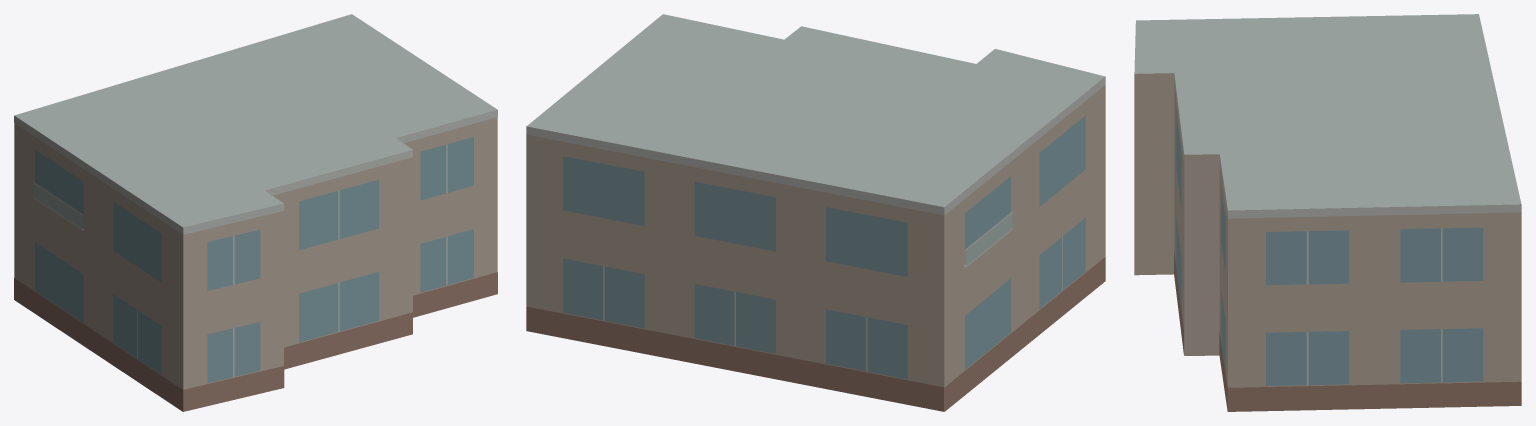
The model's file is survey-upis-32666109.glb.
3 views of the same model, side by side, from view 1: azimuth 30°, elevation 25°; view 2: azimuth 150°, elevation 25°; view 3: azimuth 270°, elevation 25° (orthographic). The views are drawn at different scales.
Visible parts, largest first — view 1: survey-upis-32666109.tmp; view 2: survey-upis-32666109.tmp; view 3: survey-upis-32666109.tmp.
Boxes of the visible parts, x1,y1,x2,y2 form: survey-upis-32666109.tmp: (14,14,497,411); survey-upis-32666109.tmp: (526,14,1105,411); survey-upis-32666109.tmp: (1134,14,1521,411).
Bounding box in the file's own units: 12.77 × 6.1 × 10.64.
